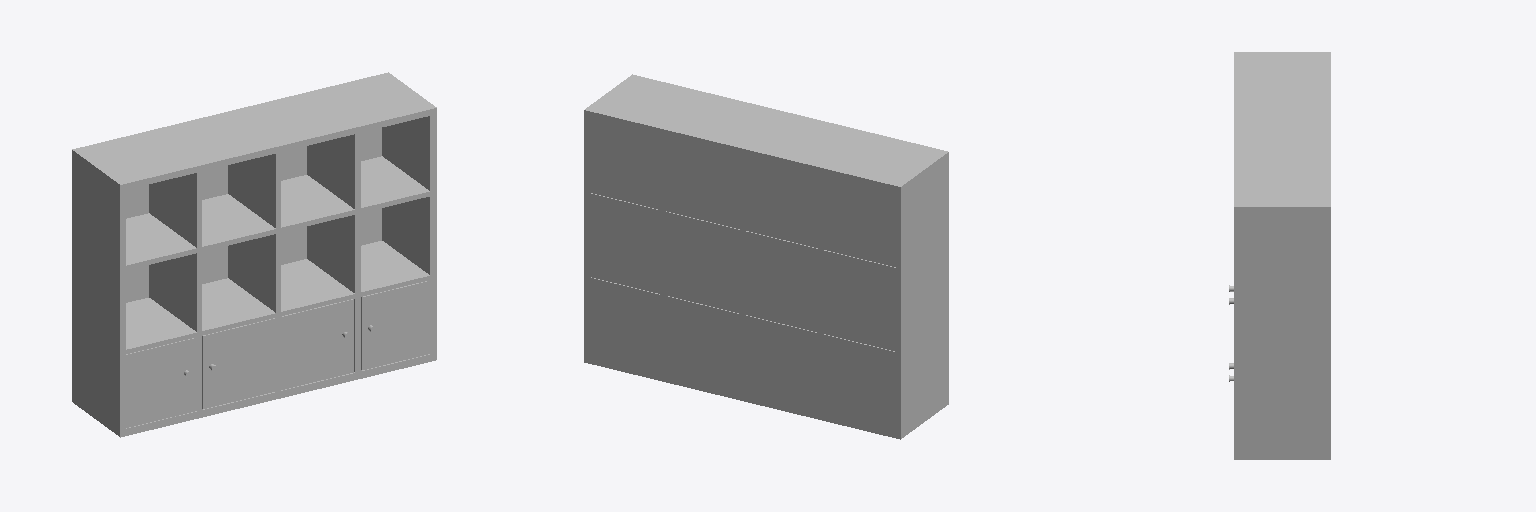
Rendered from Skrinka 2 With back OBJ.obj.
3 views of the same model, side by side, from view 1: azimuth 30°, elevation 25°; view 2: azimuth 150°, elevation 25°; view 3: azimuth 270°, elevation 25° (orthographic).
Visible parts, largest first — view 1: Cube, Plane.001; view 2: Cube, Plane.001; view 3: Cube.
Boxes of the visible parts, box(x1,y1,x2,y2) form: Cube: box(72, 72, 436, 437); Plane.001: box(126, 128, 381, 302); Cube: box(584, 74, 948, 439); Plane.001: box(591, 118, 895, 351); Cube: box(1234, 52, 1330, 459).
Size of the model in its own units: 1.47 by 1.12 by 0.4134.